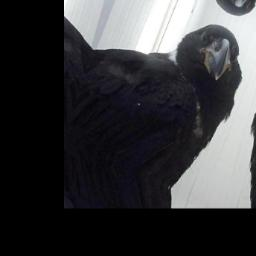Crow: (65, 0, 256, 204)
